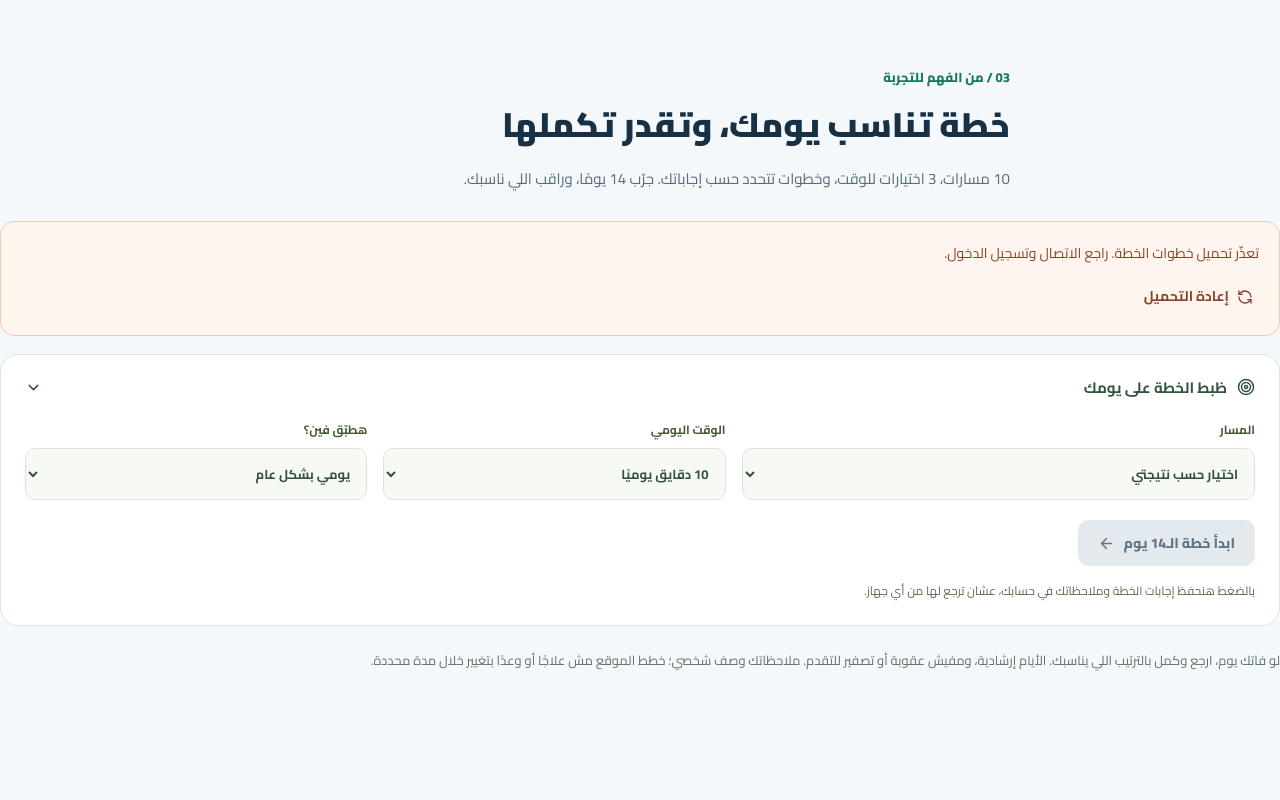
Test: actual application navigation and failure states › offers a working retry after the plan service fails
Click the button "إعادة التحميل" at (1198, 297), box [1138, 277, 1259, 317]
(page scrolled)
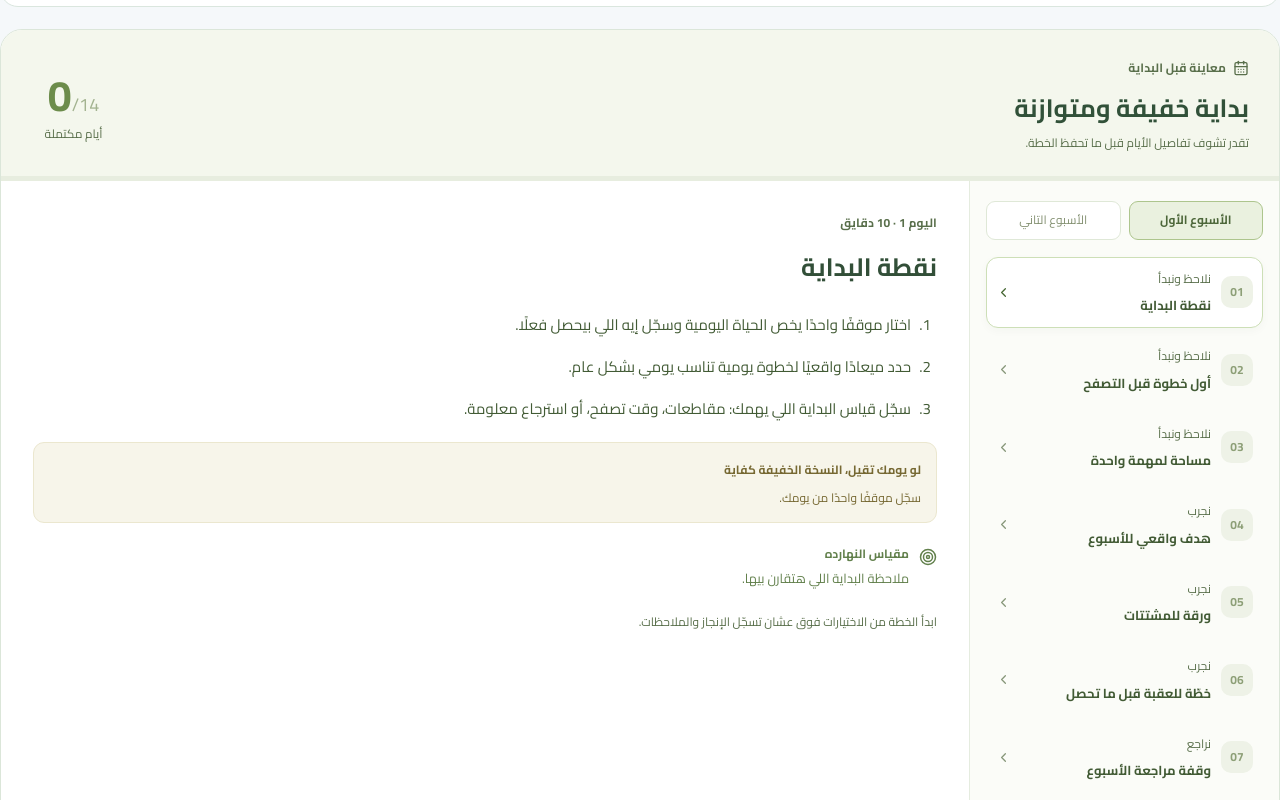
Now the text "تعذّر تحميل خطوات الخطة" is gone
